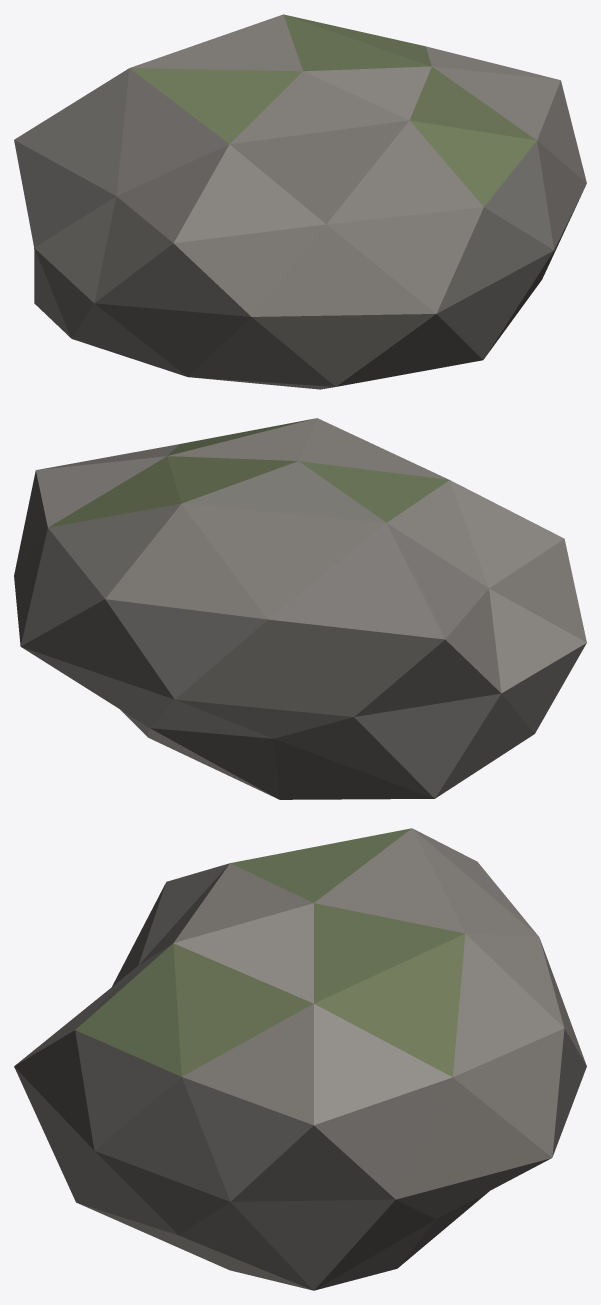
Rendered from rock_0.glb.
3 views of the same model, one above another, from view 1: azimuth 30°, elevation 25°; view 2: azimuth 150°, elevation 25°; view 3: azimuth 270°, elevation 25° (orthographic). The views are drawn at different scales.
Parts seen in each view (by area): view 1: rock_0; view 2: rock_0; view 3: rock_0.
Part boxes in pixels (bbox=[...]): rock_0: bbox=[14, 14, 586, 389]; rock_0: bbox=[14, 418, 586, 799]; rock_0: bbox=[14, 828, 586, 1290].
Size of the model in its own units: 2.42 by 1.42 by 2.12.
